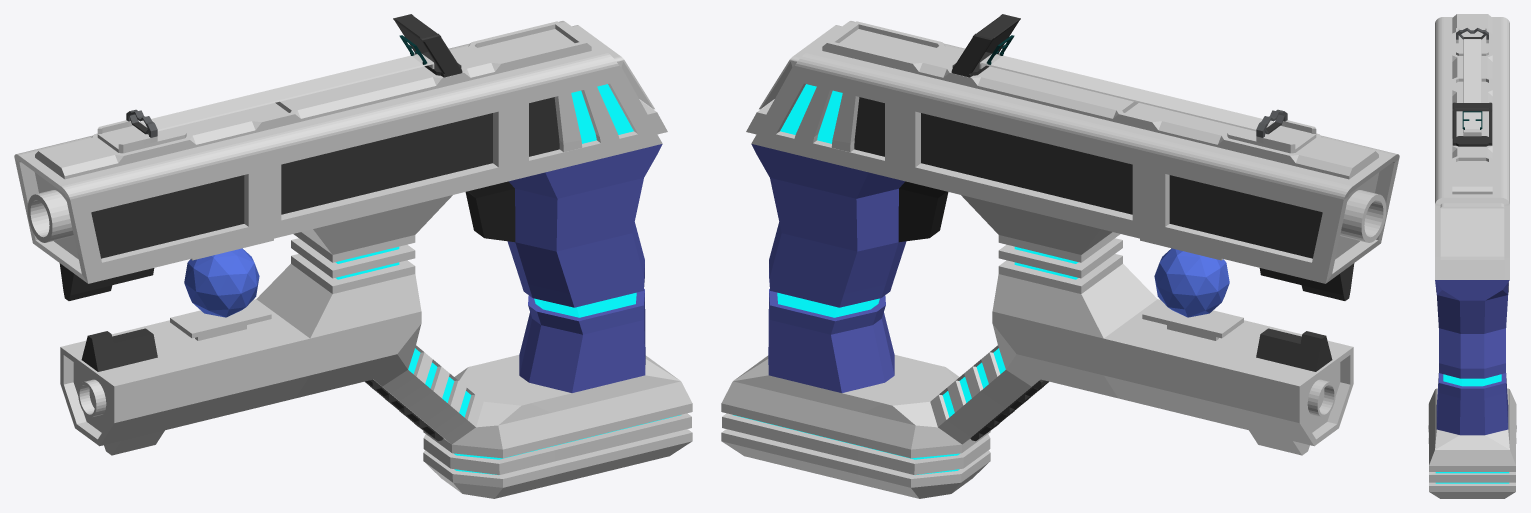
File: scifiPistolShading.fbx
3 views of the same model, side by side, from view 1: azimuth 30°, elevation 25°; view 2: azimuth 150°, elevation 25°; view 3: azimuth 270°, elevation 25° (orthographic). The views are drawn at different scales.
Visible parts, largest first — view 1: Gun, Orb, Muzzle, Bottom Muzzle; view 2: Gun, Orb, Muzzle, Bottom Muzzle; view 3: Gun.
Part boxes in pixels (box(x1,y1,x2,y2)): Gun: box(14, 14, 692, 498); Orb: box(184, 248, 259, 317); Muzzle: box(27, 190, 73, 242); Bottom Muzzle: box(78, 379, 106, 417); Gun: box(721, 14, 1399, 498); Orb: box(1154, 248, 1229, 317); Muzzle: box(1340, 190, 1386, 242); Bottom Muzzle: box(1307, 379, 1335, 417); Gun: box(1428, 14, 1516, 498).
Bounding box in the file's own units: 121 × 87.16 × 21.94.
